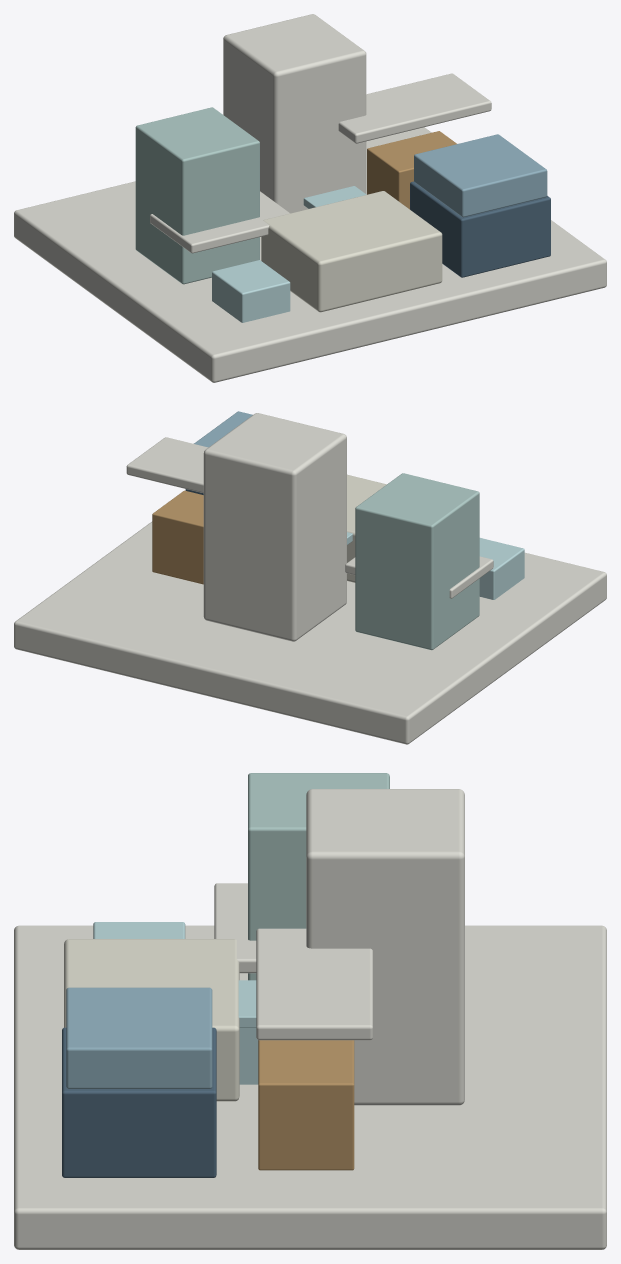
Rendered from architecture.glb.
3 renders of one model, top to bottom at view 1: azimuth 30°, elevation 25°; view 2: azimuth 150°, elevation 25°; view 3: azimuth 270°, elevation 25°, orthographic. The views are drawn at different scales.
Visible parts, largest first — view 1: Mineral plinth, Rear mineral tower, Left frosted tower, Front mineral podium, Smoked glass cap, Graphite base, Main cantilever slab, Left clear volume, Copper anchor, Low mineral shelf, Clear bridge; view 2: Mineral plinth, Rear mineral tower, Left frosted tower, Copper anchor, Main cantilever slab, Left clear volume, Front mineral podium, Low mineral shelf, Smoked glass cap; view 3: Mineral plinth, Rear mineral tower, Smoked glass cap, Graphite base, Copper anchor, Main cantilever slab, Front mineral podium, Left frosted tower, Low mineral shelf, Left clear volume, Center clear fin, Clear bridge.
Boxes of the visible parts, <box> form: Mineral plinth: <box>14,127,606,382</box>; Rear mineral tower: <box>223,14,366,213</box>; Left frosted tower: <box>135,107,259,284</box>; Front mineral podium: <box>261,191,442,312</box>; Smoked glass cap: <box>414,134,547,217</box>; Graphite base: <box>410,181,550,277</box>; Main cantilever slab: <box>338,73,491,143</box>; Left clear volume: <box>212,260,290,322</box>; Copper anchor: <box>367,131,456,209</box>; Low mineral shelf: <box>150,191,289,253</box>; Clear bridge: <box>303,186,366,208</box>; Mineral plinth: <box>14,521,606,744</box>; Rear mineral tower: <box>203,413,346,641</box>; Left frosted tower: <box>355,473,479,650</box>; Copper anchor: <box>152,490,203,584</box>; Main cantilever slab: <box>126,437,208,493</box>; Left clear volume: <box>479,538,524,599</box>; Front mineral podium: <box>347,474,386,582</box>; Low mineral shelf: <box>345,556,493,598</box>; Smoked glass cap: <box>194,411,252,447</box>; Mineral plinth: <box>14,925,606,1249</box>; Rear mineral tower: <box>306,789,464,1105</box>; Smoked glass cap: <box>66,987,212,1088</box>; Graphite base: <box>62,1027,216,1177</box>; Copper anchor: <box>258,1040,354,1170</box>; Main cantilever slab: <box>256,928,372,1040</box>; Front mineral podium: <box>64,939,239,1101</box>; Left frosted tower: <box>248,773,389,980</box>; Low mineral shelf: <box>214,883,256,973</box>; Left clear volume: <box>93,922,185,938</box>; Center clear fin: <box>239,1028,258,1084</box>; Clear bridge: <box>238,980,256,1027</box>.
Bounding box in the file's own units: 3.24 × 1.56 × 2.84.
